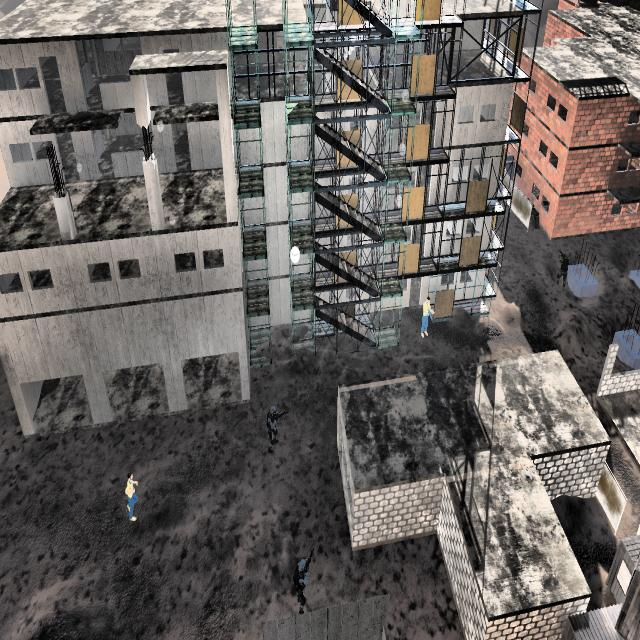bad: (285, 547, 314, 615), (258, 392, 287, 457), (556, 243, 570, 299)
good: (119, 462, 142, 538), (417, 293, 435, 345)
